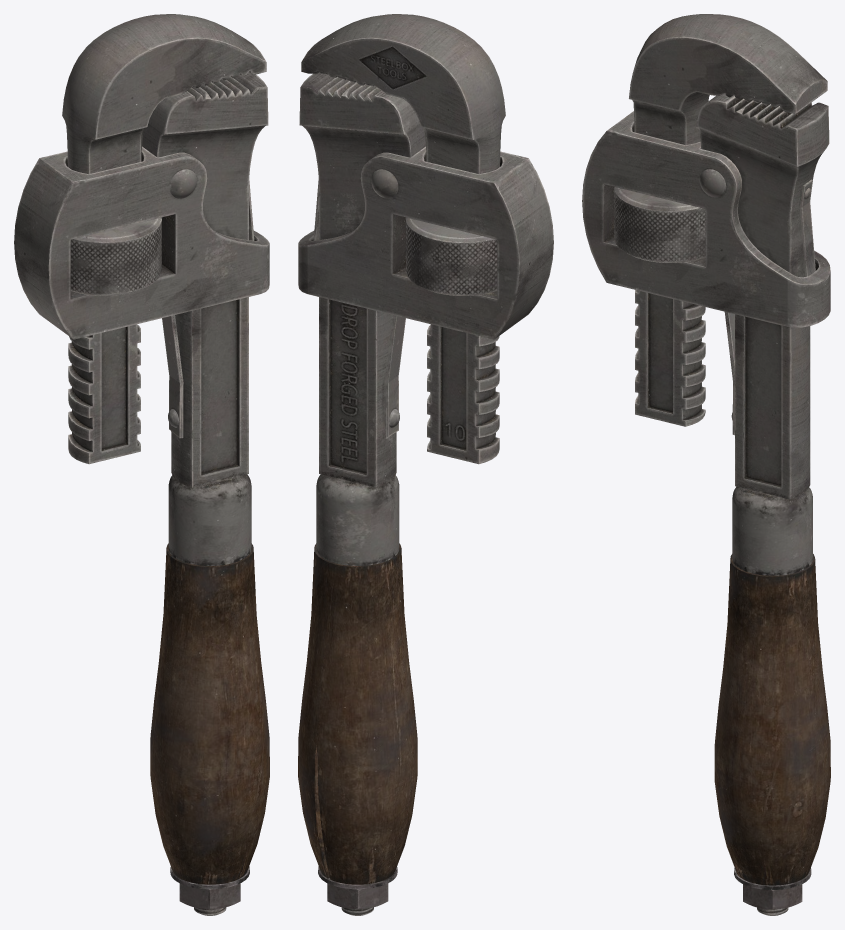
Rendered from adjustable_wrench.gltf.
The picture shows the model from 3 angles, left to right: view 1: azimuth 30°, elevation 25°; view 2: azimuth 150°, elevation 25°; view 3: azimuth 330°, elevation 25°; orthographic projection. The views are drawn at different scales.
Parts seen in each view (by area): view 1: adjustable_wrench, adjustable_wrench_jaw, adjustable_wrench_nut; view 2: adjustable_wrench, adjustable_wrench_jaw, adjustable_wrench_nut; view 3: adjustable_wrench, adjustable_wrench_jaw, adjustable_wrench_nut.
Boxes of the visible parts, <box> form: adjustable_wrench: <box>14,72,269,915</box>; adjustable_wrench_jaw: <box>62,14,266,464</box>; adjustable_wrench_nut: <box>70,217,161,295</box>; adjustable_wrench: <box>298,72,553,915</box>; adjustable_wrench_jaw: <box>301,14,505,464</box>; adjustable_wrench_nut: <box>406,217,497,295</box>; adjustable_wrench: <box>582,93,830,915</box>; adjustable_wrench_jaw: <box>629,14,827,426</box>; adjustable_wrench_nut: <box>614,187,705,262</box>.
Size of the model in its own units: 0.0683 by 0.2541 by 0.0306.
Materials: 1 (1 with a texture image).
